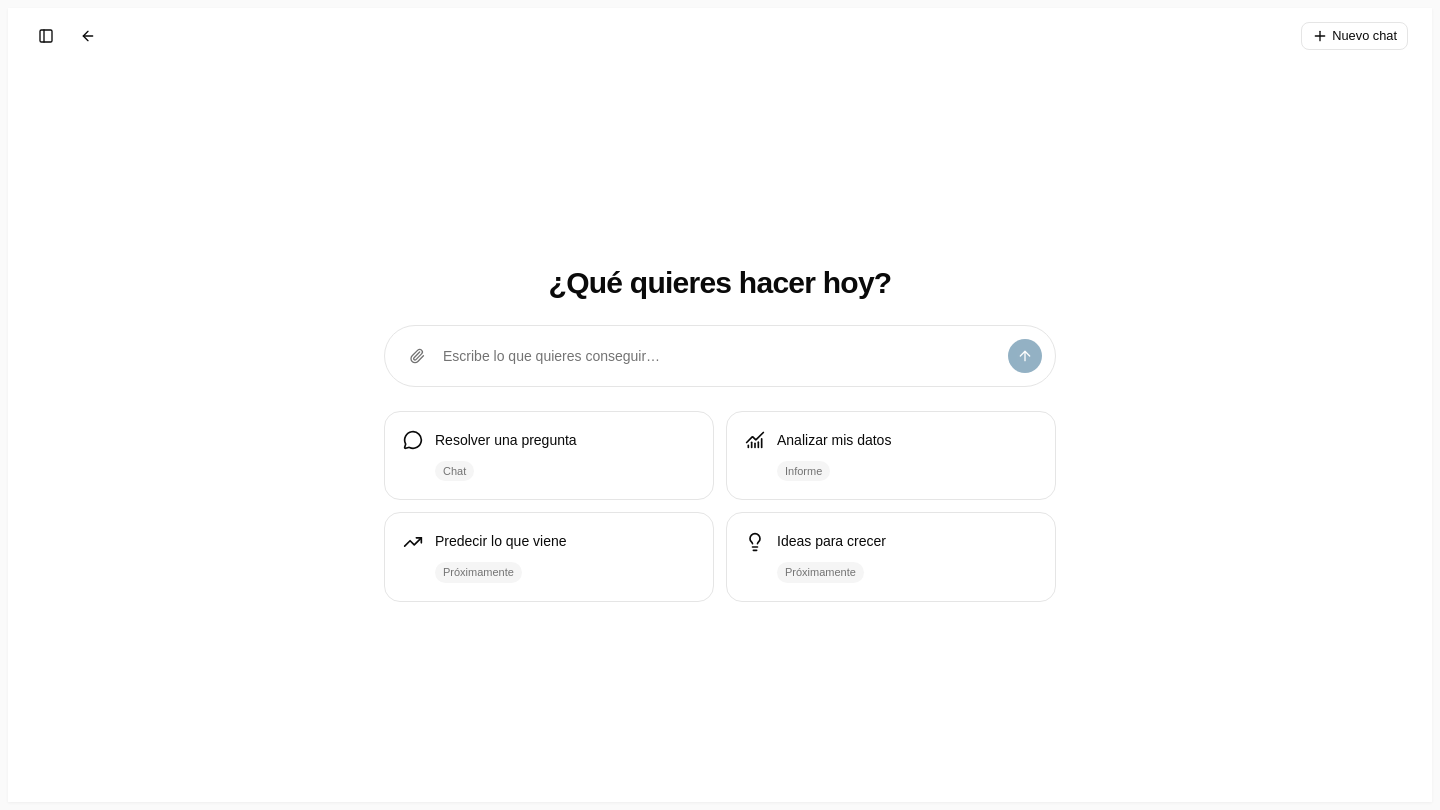
Test case: sends the first standalone message without routing through home or opening a side panel
The image size is (1440, 810).
In the text box named "Mensaje": (720, 356) [433,336,1007,376], type "Mi primera pregunta"
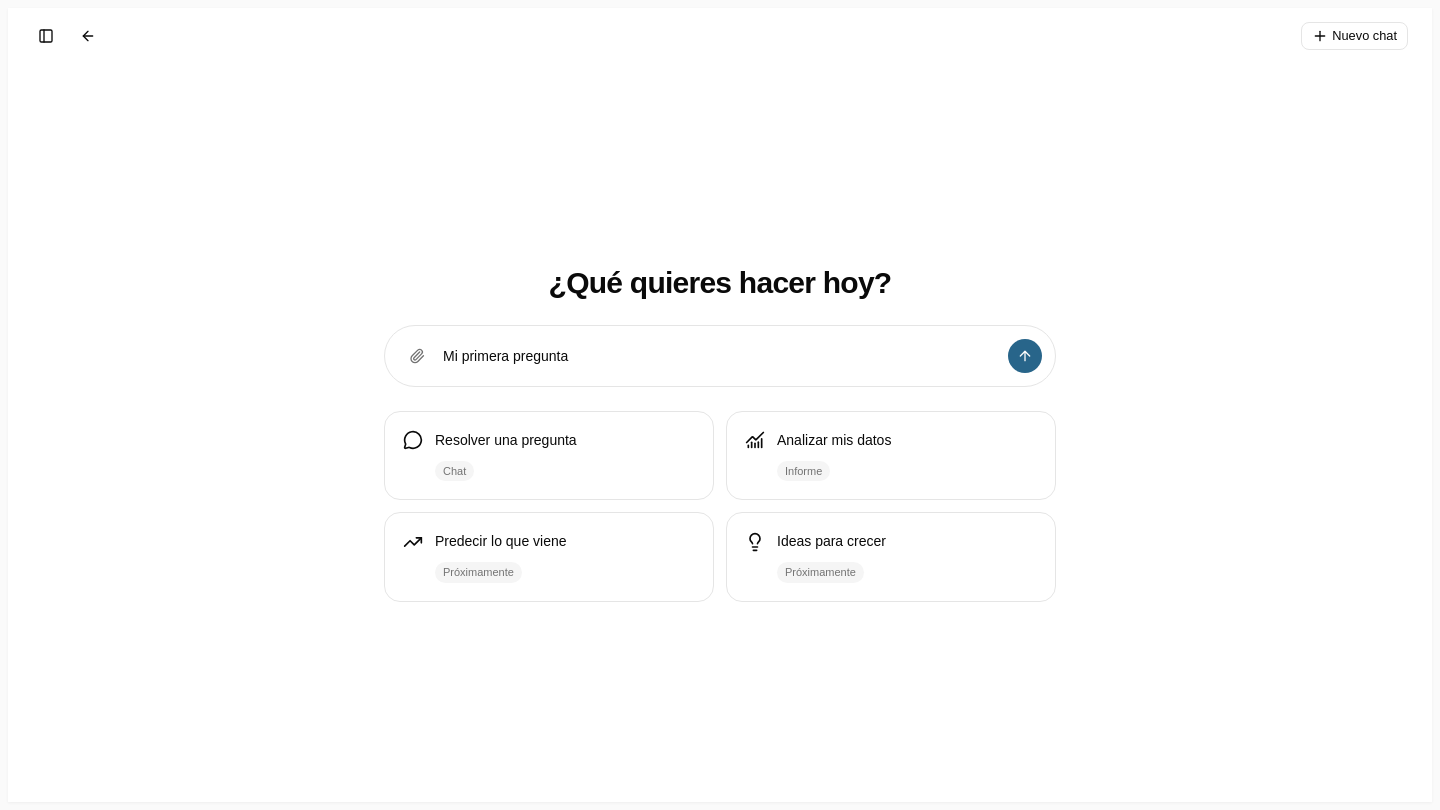
Click the button named "Enviar mensaje": (1025, 356) [1007,338,1043,374]
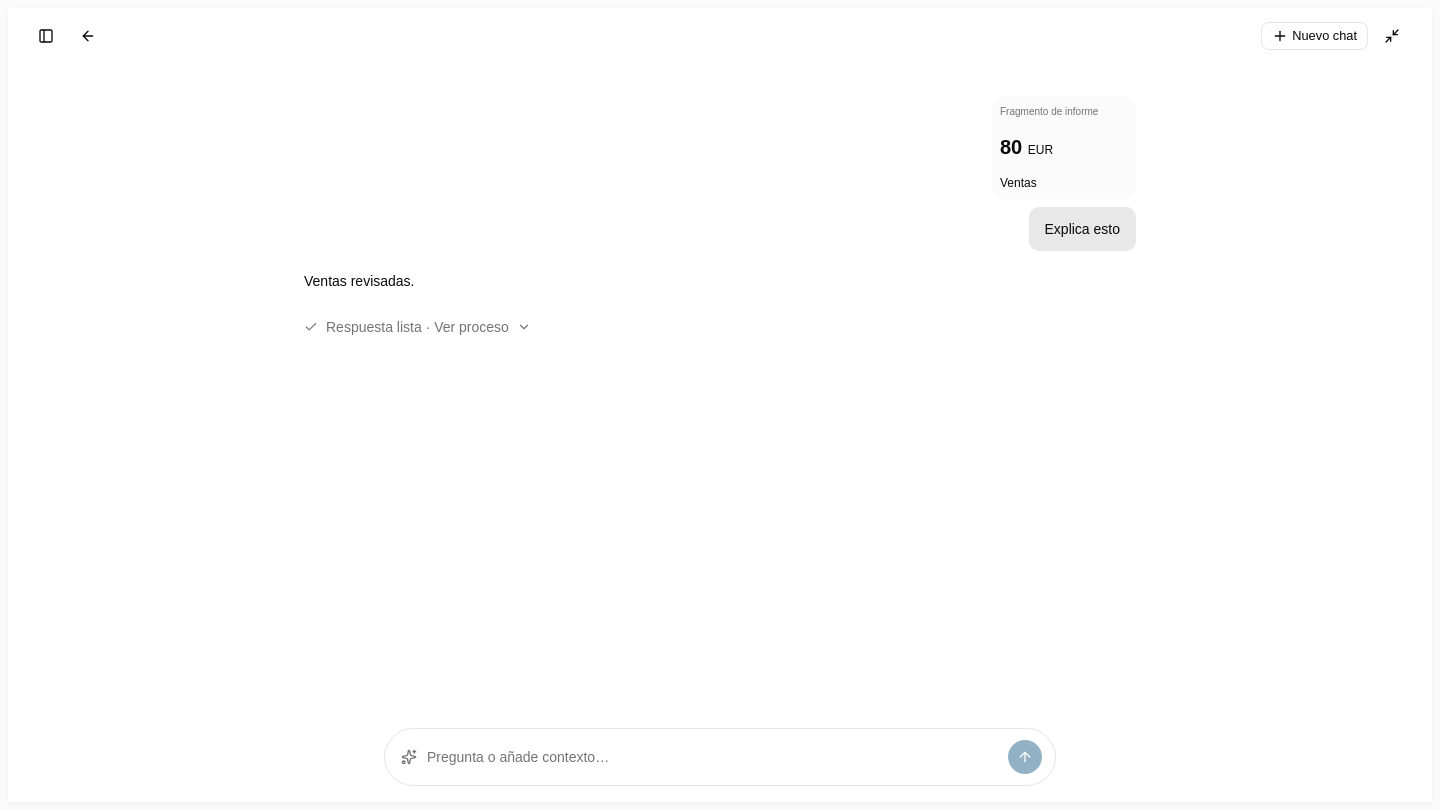
Result: the text "Ventas revisadas." is shown at [304,273,414,289]
